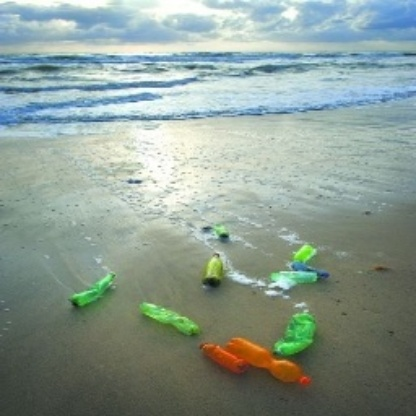bottle: (137, 298, 205, 339), (270, 308, 319, 356), (201, 251, 226, 289)
